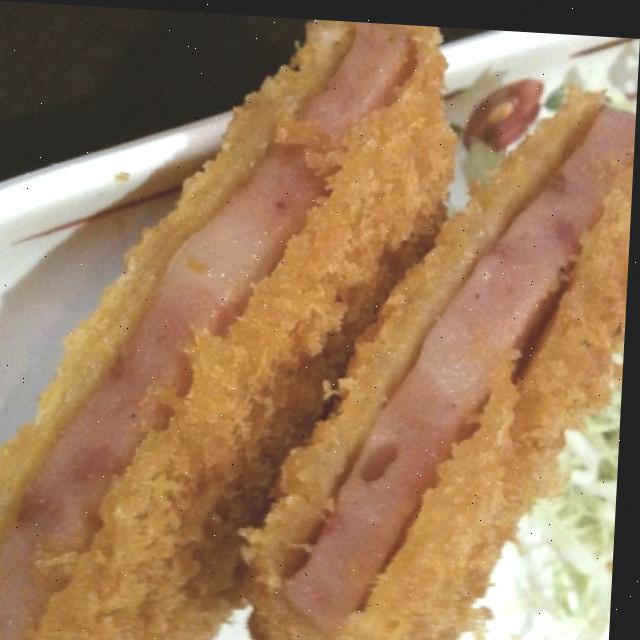炸货点心: (0, 1, 640, 640)
